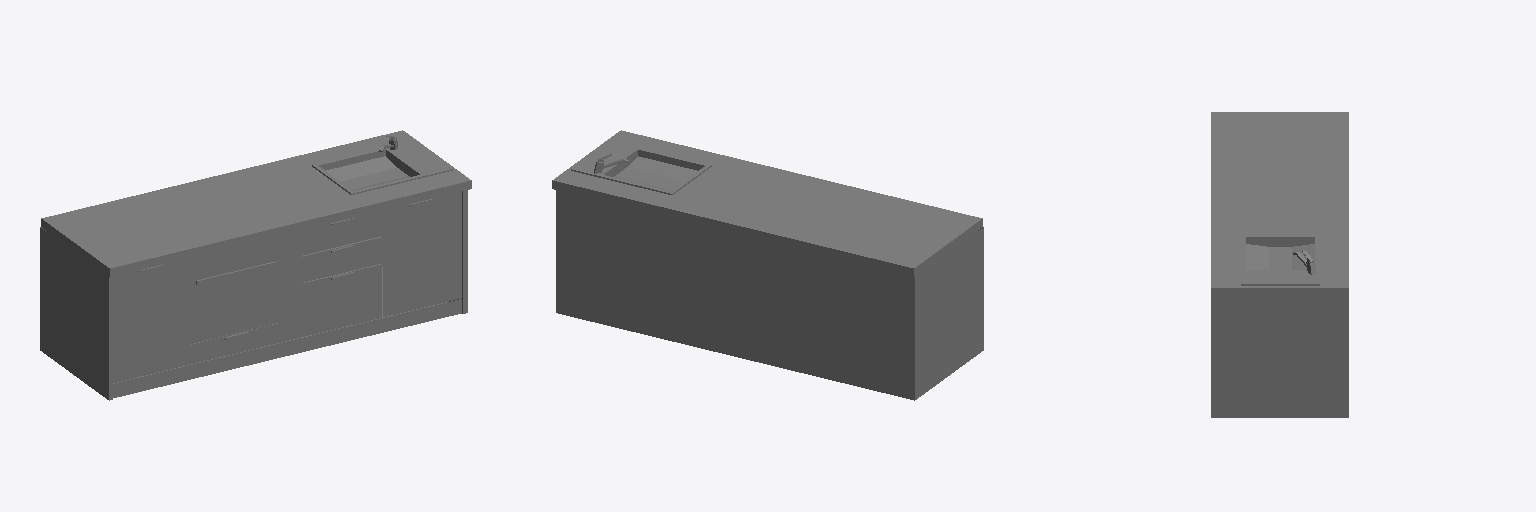
File: Barra.obj
The picture shows the model from 3 angles: view 1: azimuth 30°, elevation 25°; view 2: azimuth 150°, elevation 25°; view 3: azimuth 270°, elevation 25°; orthographic projection.
Parts seen in each view (by area): view 1: kitchen_table_001; view 2: kitchen_table_001; view 3: kitchen_table_001.
Boxes of the visible parts, box(x1,y1,x2,y2) form: kitchen_table_001: box(40, 130, 471, 400); kitchen_table_001: box(552, 130, 983, 400); kitchen_table_001: box(1211, 112, 1348, 417).
Bounding box in the file's own units: 9.37 × 3.72 × 3.07.